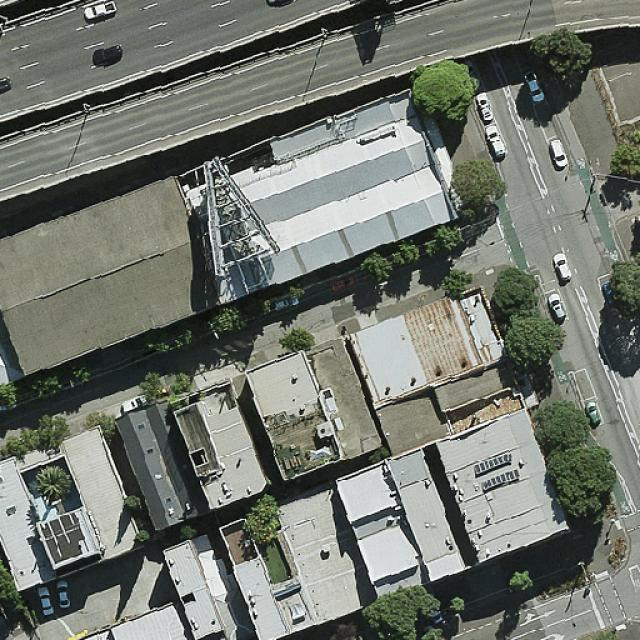Bike-Symbols: (620, 501, 631, 513), (610, 250, 620, 262), (557, 370, 567, 382), (578, 158, 586, 169)
